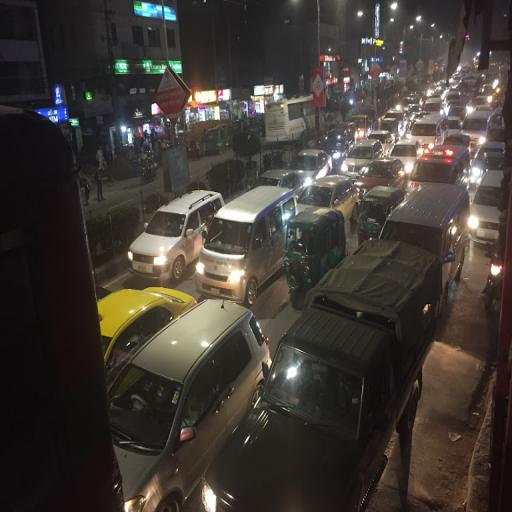ambulance: (407, 142, 471, 194)
army vehicle: (202, 242, 442, 510)
bus: (1, 106, 127, 512), (264, 95, 317, 143)
car: (110, 298, 271, 512), (127, 190, 225, 282), (298, 174, 359, 220), (470, 171, 506, 245), (355, 158, 408, 196), (341, 138, 385, 177), (251, 167, 302, 196), (470, 141, 508, 179), (323, 127, 355, 160), (294, 148, 333, 175), (369, 130, 396, 153)
motorbike: (482, 248, 508, 311), (139, 159, 158, 186)
pickup: (349, 114, 379, 134)
taxi: (97, 286, 197, 364)
three wheelers (CNG): (284, 206, 348, 300), (205, 128, 227, 154), (248, 116, 262, 135), (233, 119, 246, 139)
van: (196, 185, 299, 301), (380, 183, 471, 287), (412, 114, 450, 148), (461, 110, 498, 143)
